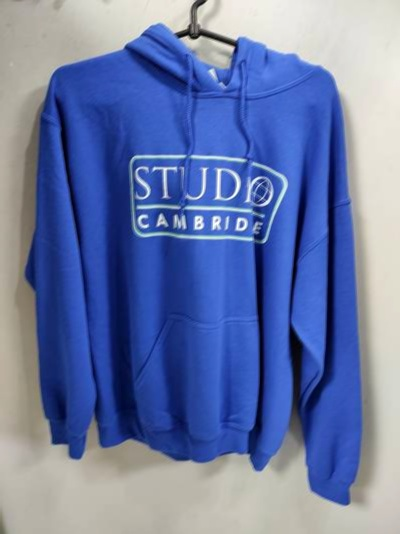Hoodie: (36, 15, 389, 497)
